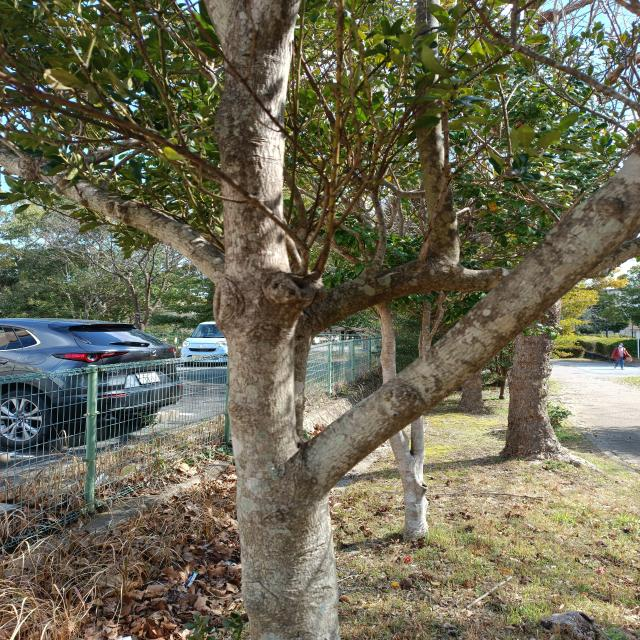Branch: (293, 149, 638, 496), (0, 143, 223, 283), (309, 257, 503, 338)
Twig: (0, 71, 308, 272), (191, 12, 330, 250), (472, 0, 640, 113), (314, 0, 344, 278), (335, 216, 368, 261), (370, 185, 387, 267)
